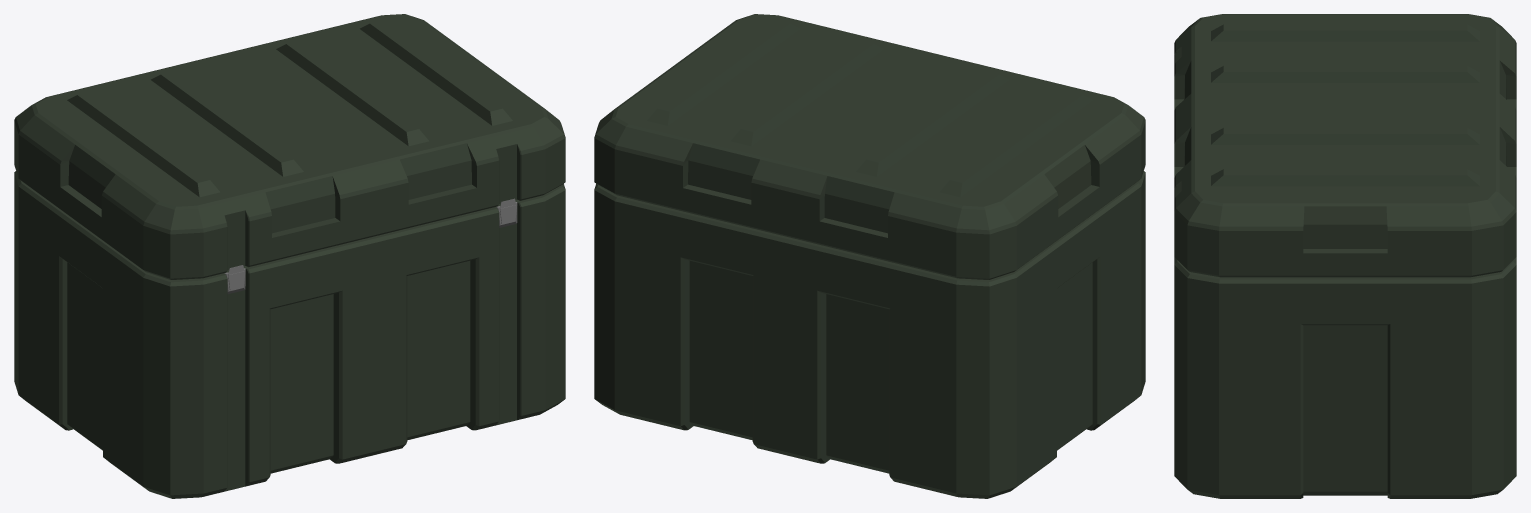
File: militaryCrate.fbx
3 renders of one model, left to right at view 1: azimuth 30°, elevation 25°; view 2: azimuth 150°, elevation 25°; view 3: azimuth 270°, elevation 25°, orthographic.
Parts seen in each view (by area): view 1: Bottom, Top; view 2: Bottom, Top; view 3: Top, Bottom.
Part boxes in pixels (bbox=[...]): Bottom: bbox=[14, 171, 565, 498]; Top: bbox=[14, 14, 565, 279]; Bottom: bbox=[594, 171, 1145, 498]; Top: bbox=[594, 14, 1145, 279]; Top: bbox=[1174, 14, 1516, 277]; Bottom: bbox=[1174, 257, 1516, 498].
Bounding box in the file's own units: 200 × 135 × 140.
